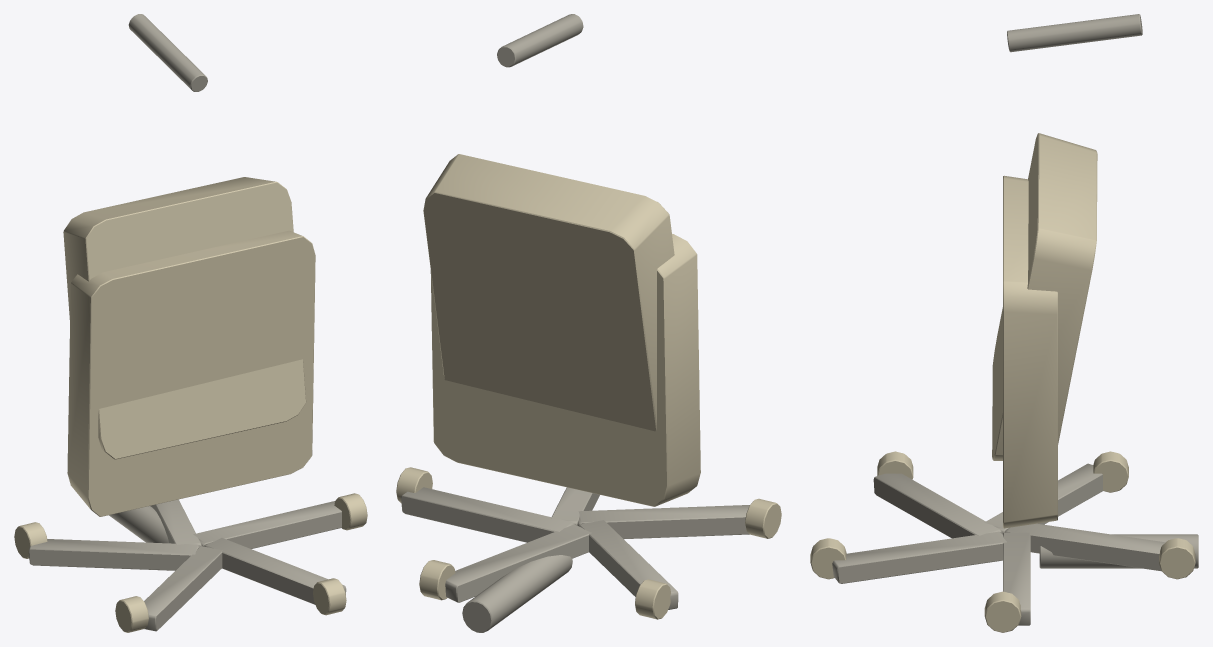
The model's file is LV_office_chair.fbx.
3 renders of one model, left to right at view 1: azimuth 30°, elevation 25°; view 2: azimuth 150°, elevation 25°; view 3: azimuth 270°, elevation 25°, orthographic. The views are drawn at different scales.
Visible parts, largest first — view 1: LV_office_chair; view 2: LV_office_chair; view 3: LV_office_chair.
Part boxes in pixels (x1,y1,x2,y2): LV_office_chair: [14, 14, 367, 632]; LV_office_chair: [396, 14, 781, 632]; LV_office_chair: [810, 14, 1198, 632].
Size of the model in its own units: 0.5858 by 0.9973 by 0.6353.
